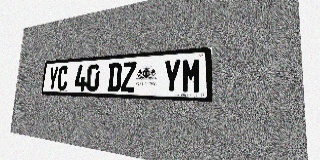0: (86, 64, 100, 91)
4: (75, 65, 88, 91)
C: (57, 66, 69, 90)
D: (107, 62, 122, 92)
M: (181, 58, 202, 94)
Y: (162, 59, 181, 93), (47, 66, 59, 90)
Z: (121, 62, 137, 92)
